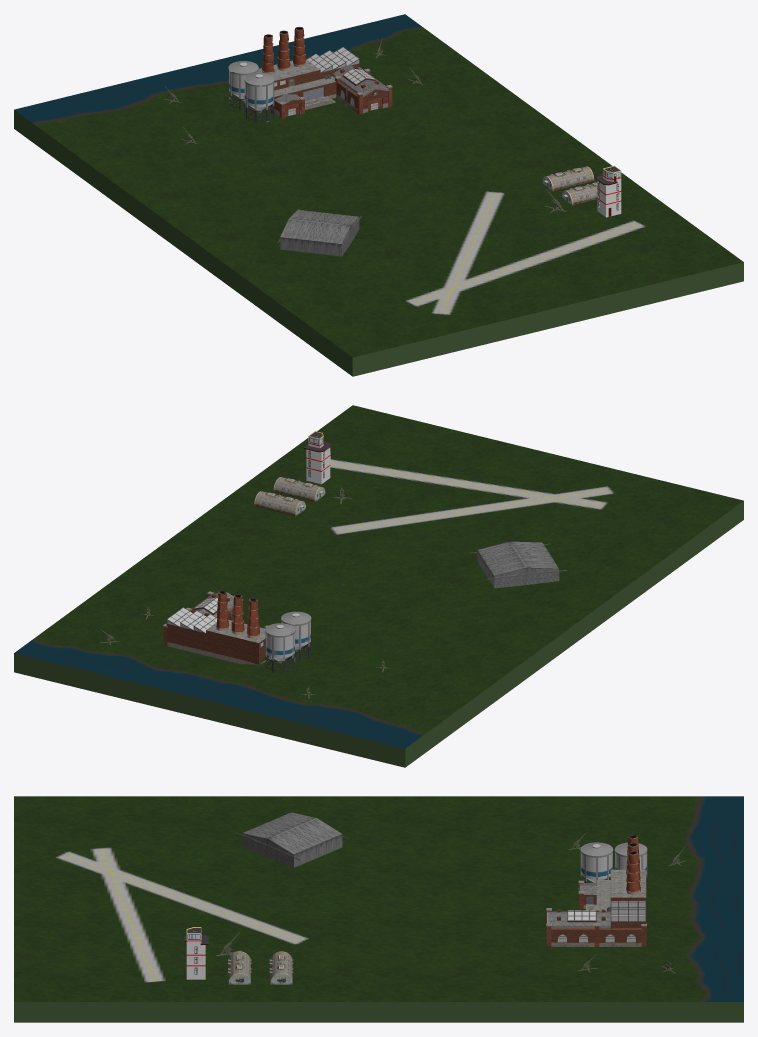
Rendered from Schweinfurt.glb.
3 renders of one model, top to bottom at view 1: azimuth 30°, elevation 25°; view 2: azimuth 150°, elevation 25°; view 3: azimuth 270°, elevation 25°, orthographic. The views are drawn at different scales.
Parts seen in each view (by area): view 1: Cube, Object_2, Object_2.001, German.Control.Tower.1.700, Cylinder001_Barrack Texture Map_0.002, Cylinder001_Barrack Texture Map_0.001; view 2: Cube, Object_2, Object_2.001, German.Control.Tower.1.700, Cylinder001_Barrack Texture Map_0.002, Cylinder001_Barrack Texture Map_0.001; view 3: Cube, Object_2, Object_2.001, German.Control.Tower.1.700, Cylinder001_Barrack Texture Map_0.002, Cylinder001_Barrack Texture Map_0.001.
Part boxes in pixels (x1,y1,x2,y2): Cube: (14,14,743,376); Object_2: (228,27,392,122); Object_2.001: (277,208,361,256); German.Control.Tower.1.700: (596,165,621,217); Cylinder001_Barrack Texture Map_0.002: (542,166,594,191); Cylinder001_Barrack Texture Map_0.001: (561,182,597,205); Cube: (14,405,743,767); Object_2: (163,590,311,673); Object_2.001: (470,541,567,588); German.Control.Tower.1.700: (303,431,331,484); Cylinder001_Barrack Texture Map_0.002: (254,491,305,516); Cylinder001_Barrack Texture Map_0.001: (273,477,325,501); Cube: (14,796,743,1022); Object_2: (546,835,647,946); Object_2.001: (236,812,348,867); German.Control.Tower.1.700: (184,927,208,979); Cylinder001_Barrack Texture Map_0.002: (269,951,293,984); Cylinder001_Barrack Texture Map_0.001: (228,951,251,984).
Size of the model in its own units: 256 by 50.6 by 384.
Materials: 22 (6 with a texture image).
